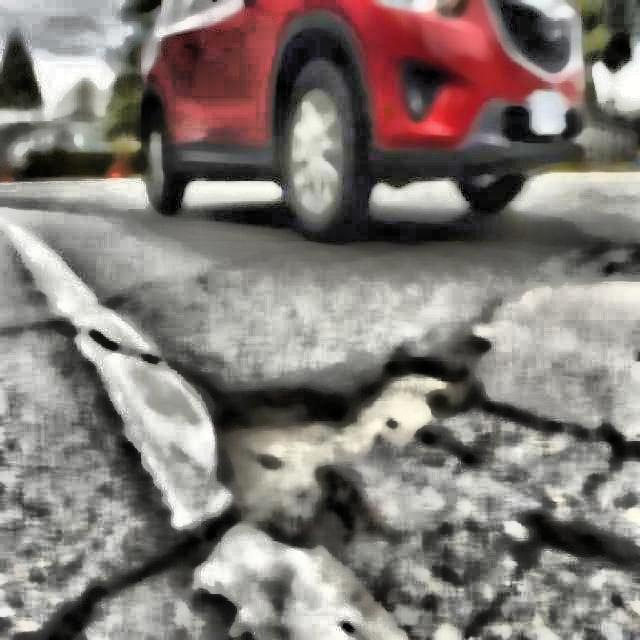buraco: (212, 338, 482, 539)
